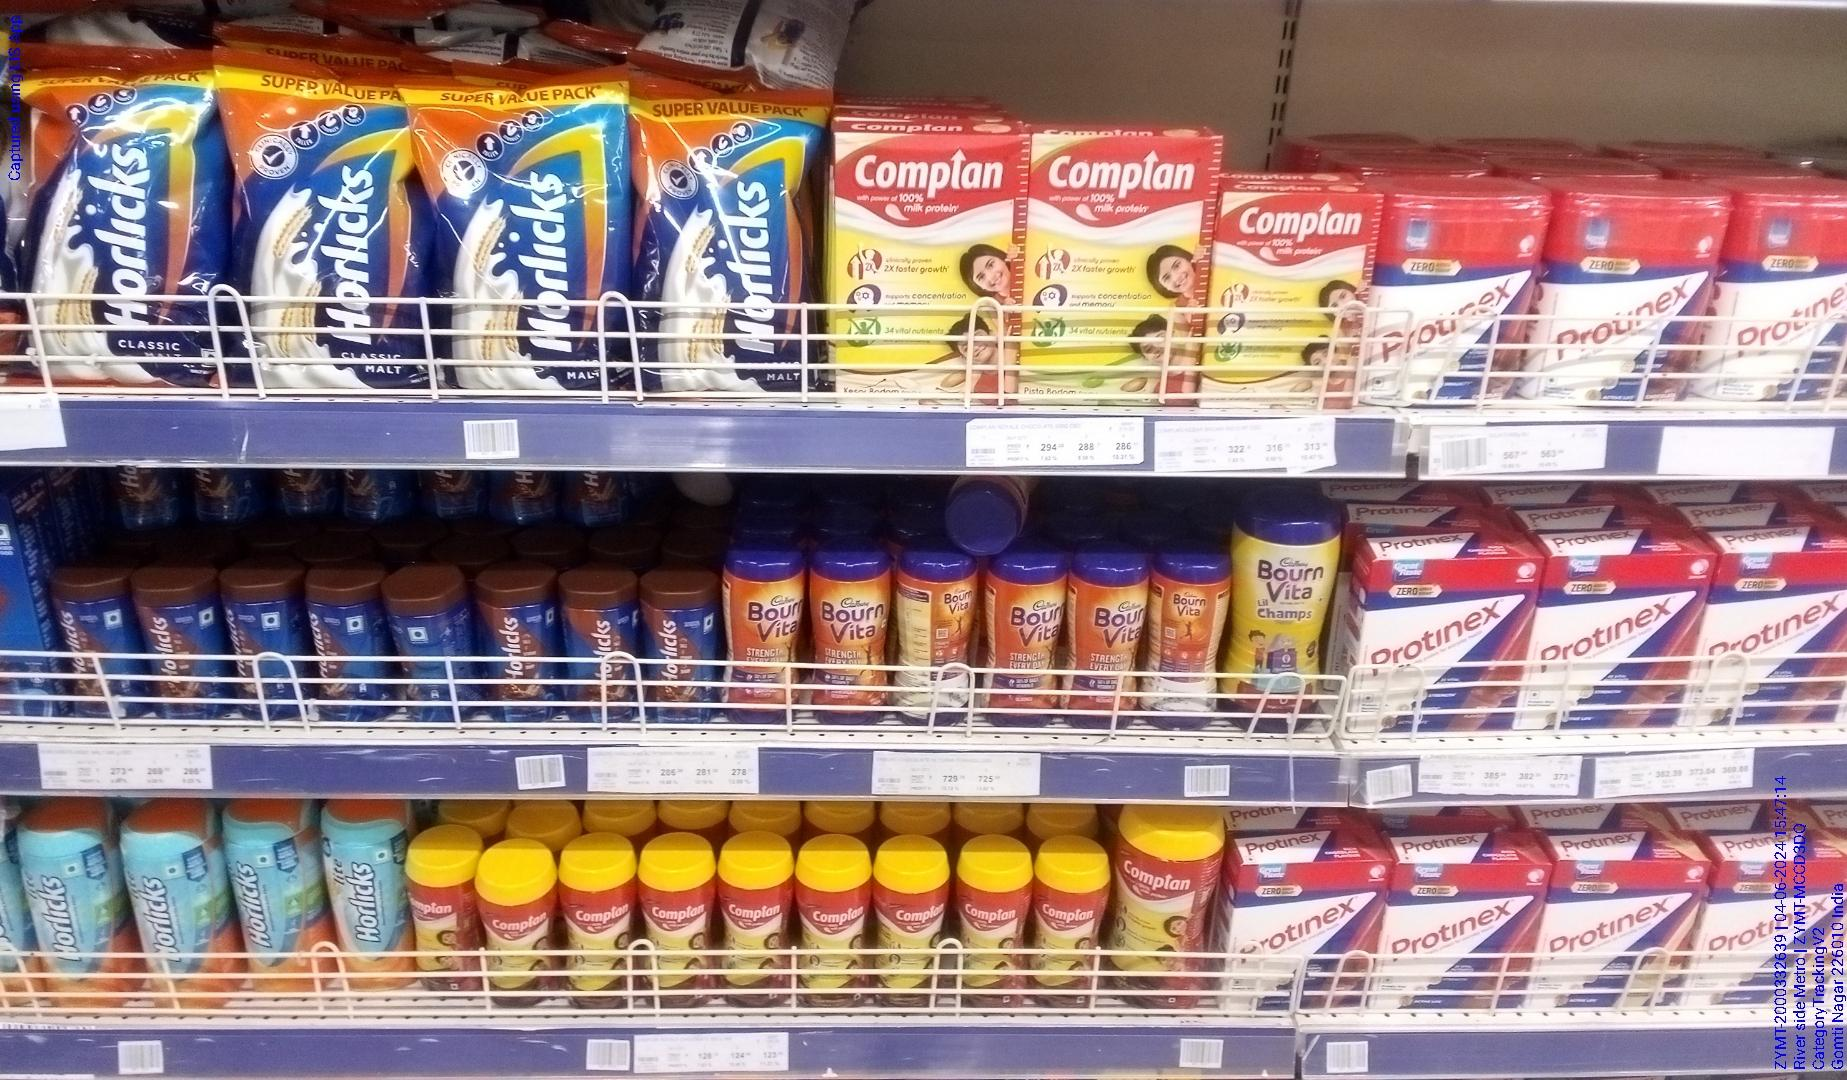BOURN_VITA_200_G_JAR: (981, 552, 1063, 732), (720, 546, 801, 724), (810, 546, 888, 725), (896, 546, 976, 721), (1147, 558, 1222, 735), (1068, 557, 1141, 732)
BOURN_VITA_CHAMPS_500_G_JAR: (1227, 512, 1333, 734)
COMPLAN_CHOCOLATE_200_GMS_JAR: (717, 828, 790, 1008), (481, 836, 554, 1008), (875, 840, 949, 1008), (799, 831, 869, 1008), (638, 833, 707, 1008), (410, 824, 476, 1004), (559, 836, 627, 1008), (955, 843, 1024, 1008), (1032, 845, 1100, 1008)
COMPLAN_CHOCOLATE_500_GMS_JAR: (1108, 800, 1215, 1013)
COMPLAN_KESAR_BADAM_200_GMS_PACK: (1203, 189, 1375, 411)
COMPLAN_PISTA_BADAM_500_GMS_PACK: (1023, 125, 1195, 413)
HORLICKS_LITE_REGULAR_MALT_500_GM_JAR: (22, 804, 117, 1016), (127, 807, 219, 1008), (230, 807, 315, 1003), (323, 800, 402, 1000)
HORLICK_CHOCOLATE_200_G_JAR: (135, 577, 216, 716), (641, 570, 713, 724), (483, 566, 553, 723), (54, 579, 131, 716), (563, 562, 630, 720)
HORLICK_CLASSIC_MALT_750_G_POUCH: (222, 64, 418, 388), (22, 66, 215, 391), (428, 90, 626, 392), (632, 81, 824, 391)
PROTINEX_CHOCOLATE_400_G_JAR: (1546, 188, 1703, 399), (1382, 190, 1518, 405), (1721, 195, 1847, 417)
